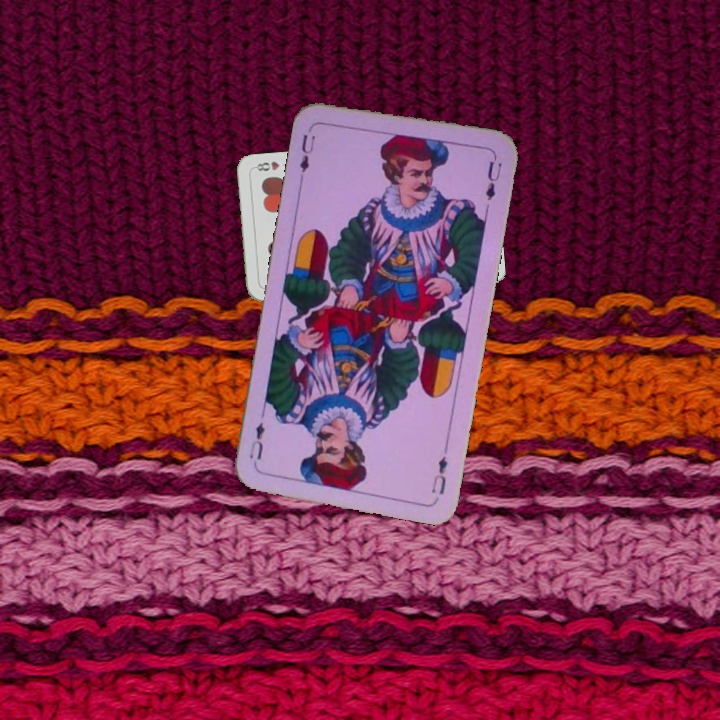EU: (295, 122, 318, 181), (427, 452, 451, 498)
